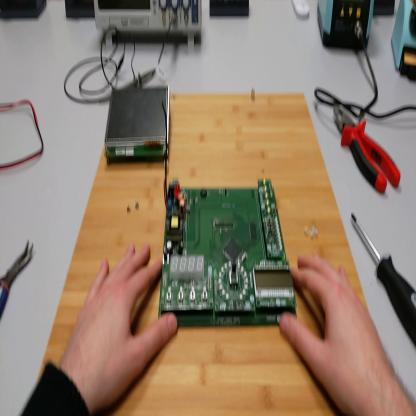hand: (64, 242, 177, 404), (282, 253, 388, 407)
low voltage board: (160, 106, 298, 333)
oscilloscope: (95, 2, 203, 46)
oscilloscope probe tip: (100, 66, 156, 111)
pliers: (333, 102, 403, 194), (2, 240, 33, 320)
screwdriver-: (352, 213, 416, 343)
socket: (1, 2, 48, 24), (65, 3, 94, 17), (374, 1, 395, 18)
welder base: (392, 2, 416, 82)
welder station: (318, 2, 376, 52)
working area: (34, 90, 369, 416)
